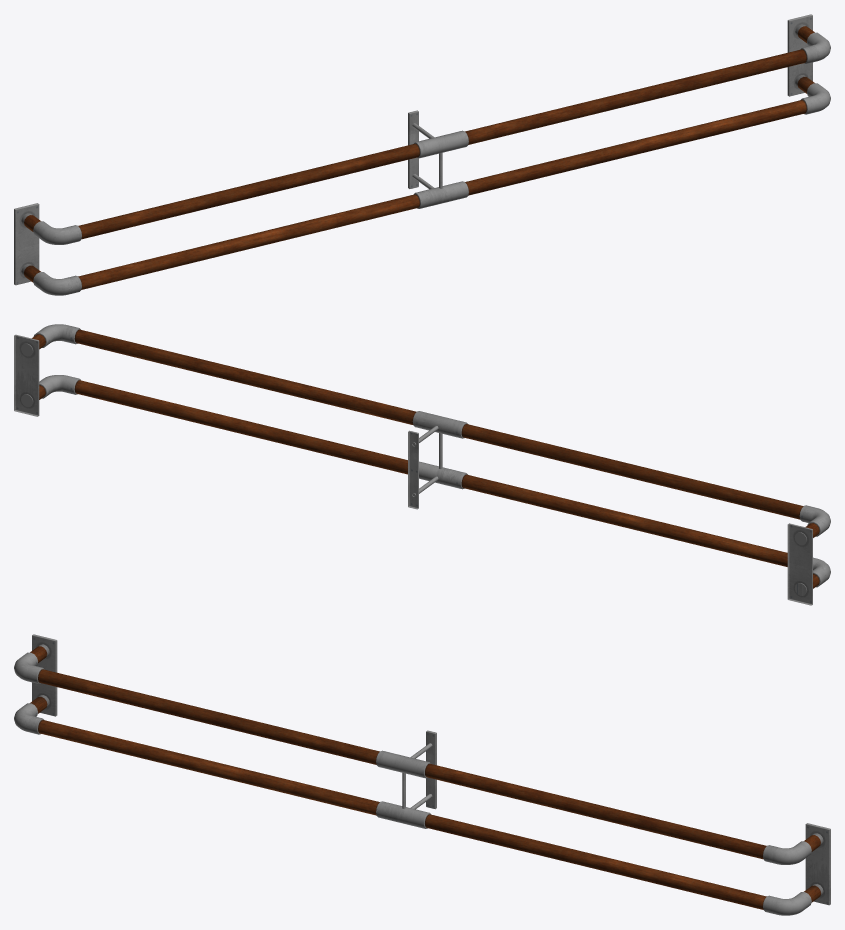
Rendered from M_WindowRail300.FBX.
3 renders of one model, top to bottom at view 1: azimuth 30°, elevation 25°; view 2: azimuth 150°, elevation 25°; view 3: azimuth 330°, elevation 25°, orthographic.
Parts seen in each view (by area): view 1: WindowRail_300; view 2: WindowRail_300; view 3: WindowRail_300.
Part boxes in pixels (bbox=[...]): WindowRail_300: bbox=[14, 14, 830, 295]; WindowRail_300: bbox=[14, 324, 830, 605]; WindowRail_300: bbox=[14, 634, 830, 915].
Size of the model in its own units: 330 by 30 by 23.
